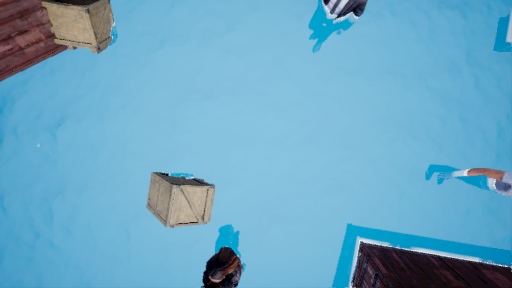person: (432, 159, 512, 198), (200, 224, 247, 288)
